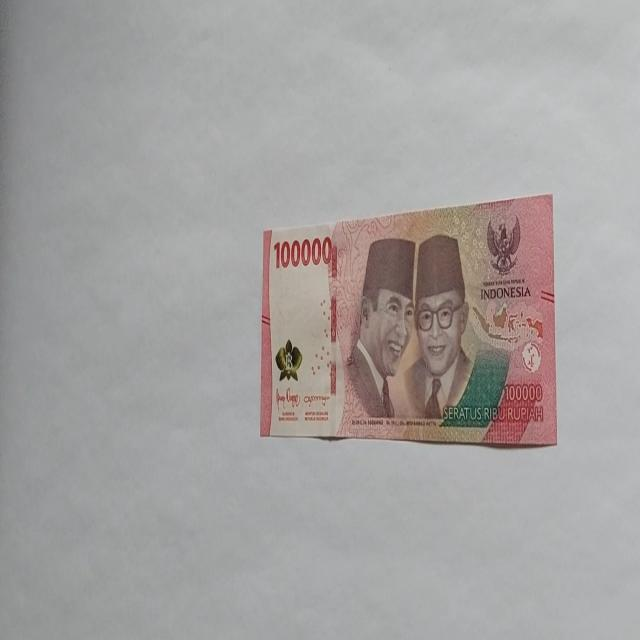seratus ribu rupiah: (259, 192, 556, 446), (339, 236, 416, 432)
